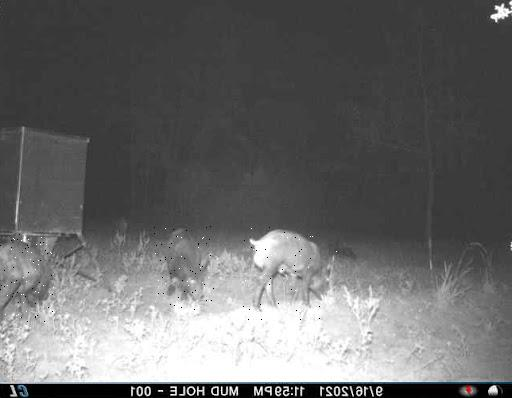Hog: (243, 226, 337, 320), (154, 225, 215, 311), (0, 232, 54, 322)
